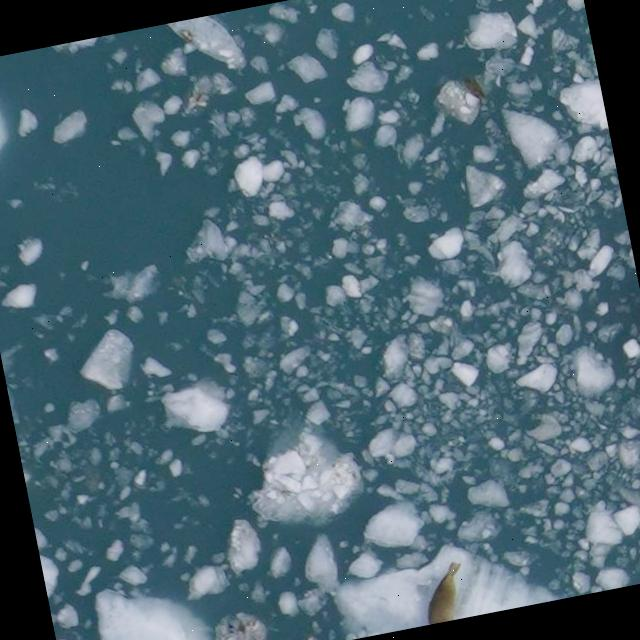seal: (427, 557, 463, 626)
